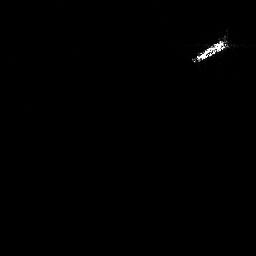ship: (189, 33, 229, 64)
